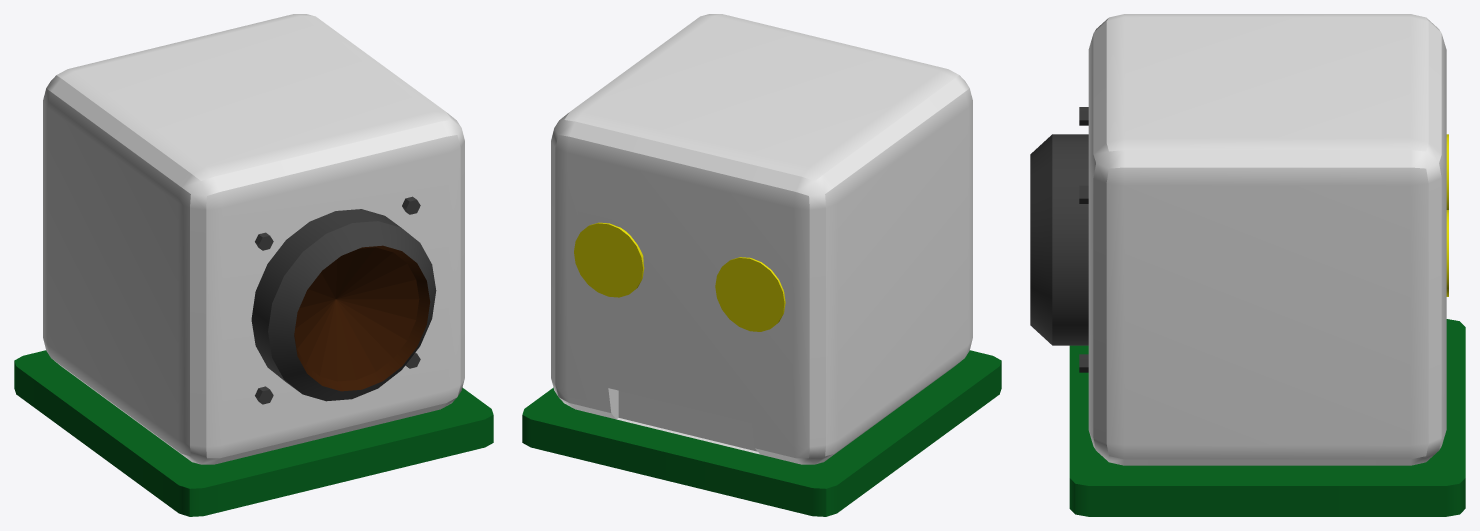
The model's file is Player.fbx.
The picture shows the model from 3 angles, left to right: view 1: azimuth 30°, elevation 25°; view 2: azimuth 150°, elevation 25°; view 3: azimuth 270°, elevation 25°; orthographic projection. The views are drawn at different scales.
Parts seen in each view (by area): view 1: body, booster, pressure_plate; view 2: body, pressure_plate, sensor_eyeL, sensor_eyeR, roller_gate; view 3: body, pressure_plate, booster.
Boxes of the visible parts, bbox=[...] form: body: bbox=[43, 14, 464, 464]; booster: bbox=[251, 209, 436, 401]; pressure_plate: bbox=[14, 350, 493, 516]; body: bbox=[551, 14, 972, 464]; pressure_plate: bbox=[522, 350, 1001, 516]; sensor_eyeL: bbox=[574, 222, 644, 297]; sensor_eyeR: bbox=[715, 257, 785, 331]; roller_gate: bbox=[618, 390, 757, 451]; body: bbox=[1088, 14, 1446, 465]; pressure_plate: bbox=[1069, 319, 1465, 516]; booster: bbox=[1030, 134, 1088, 345].
Bounding box in the file's own units: 2.21 × 2.19 × 2.43.
